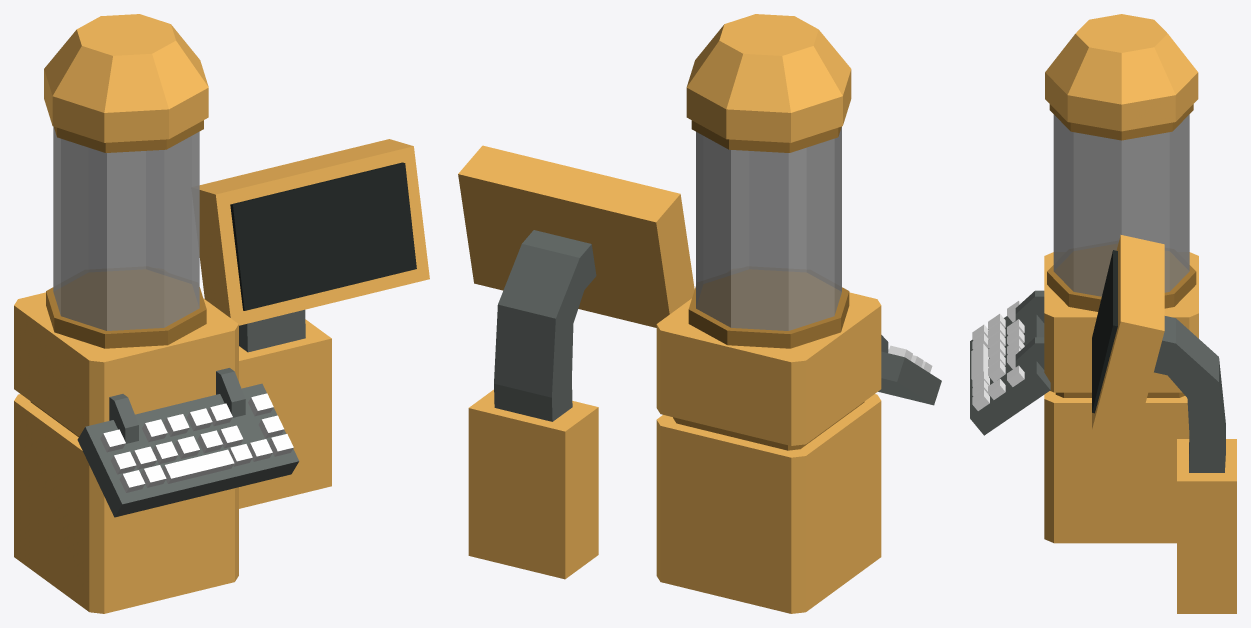
Rendered from computer_01.fbx.
The picture shows the model from 3 angles, left to right: view 1: azimuth 30°, elevation 25°; view 2: azimuth 150°, elevation 25°; view 3: azimuth 270°, elevation 25°; orthographic projection. The views are drawn at different scales.
Parts seen in each view (by area): view 1: computer2, GLASS; view 2: computer2, GLASS; view 3: computer2, GLASS.
Boxes of the visible parts, x1,y1,x2,y2 form: computer2: [14, 14, 429, 613]; GLASS: [53, 126, 199, 330]; computer2: [458, 14, 941, 613]; GLASS: [696, 126, 841, 330]; computer2: [970, 14, 1236, 613]; GLASS: [1053, 114, 1189, 296].
Bounding box in the file's own units: 83.86 × 113 × 57.49.
Materials: 2 (1 with a texture image).
